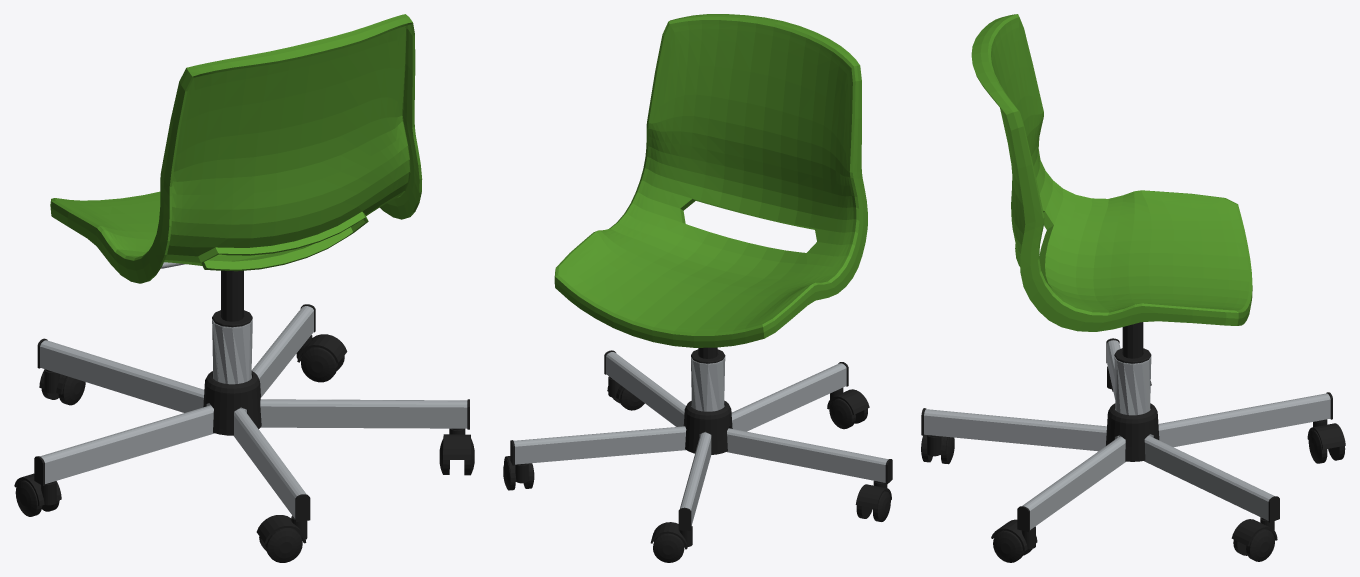
3 renders of one model, left to right at view 1: azimuth 30°, elevation 25°; view 2: azimuth 150°, elevation 25°; view 3: azimuth 270°, elevation 25°, orthographic. The views are drawn at different scales.
Parts seen in each view (by area): view 1: Mesh2 Group2 SNILLE_IKEA1 Model, Mesh8 Group6 SNILLE_IKEA1 Model, Mesh1 Group1 SNILLE_IKEA1 Model, Mesh7 Group5 SNILLE_IKEA1 Model, Mesh3 Group3 SNILLE_IKEA1 Model, Mesh20 ROULETTE4 SNILLE_IKEA1 Model, Mesh16 ROULETTE3 SNILLE_IKEA1 Model, Mesh12 ROULETTE2 SNILLE_IKEA1 Model, Mesh18 ROULETTE4 SNILLE_IKEA1 Model, Mesh15 ROULETTE3 SNILLE_IKEA1 Model, Mesh9 ROULETTE1 SNILLE_IKEA1 Model, Mesh11 ROULETTE1 SNILLE_IKEA1 Model; view 2: Mesh2 Group2 SNILLE_IKEA1 Model, Mesh8 Group6 SNILLE_IKEA1 Model, Mesh1 Group1 SNILLE_IKEA1 Model, Mesh7 Group5 SNILLE_IKEA1 Model, Mesh23 ROULETTE5 SNILLE_IKEA1 Model, Mesh9 ROULETTE1 SNILLE_IKEA1 Model, Mesh18 ROULETTE4 SNILLE_IKEA1 Model, Mesh19 ROULETTE4 SNILLE_IKEA1 Model, Mesh21 ROULETTE5 SNILLE_IKEA1 Model, Mesh15 ROULETTE3 SNILLE_IKEA1 Model; view 3: Mesh2 Group2 SNILLE_IKEA1 Model, Mesh8 Group6 SNILLE_IKEA1 Model, Mesh7 Group5 SNILLE_IKEA1 Model, Mesh1 Group1 SNILLE_IKEA1 Model, Mesh3 Group3 SNILLE_IKEA1 Model, Mesh14 ROULETTE2 SNILLE_IKEA1 Model, Mesh21 ROULETTE5 SNILLE_IKEA1 Model, Mesh15 ROULETTE3 SNILLE_IKEA1 Model, Mesh17 ROULETTE3 SNILLE_IKEA1 Model, Mesh12 ROULETTE2 SNILLE_IKEA1 Model.
Part boxes in pixels (x1,y1,x2,y2): Mesh2 Group2 SNILLE_IKEA1 Model: [50, 14, 422, 283]; Mesh8 Group6 SNILLE_IKEA1 Model: [34, 304, 469, 522]; Mesh1 Group1 SNILLE_IKEA1 Model: [203, 371, 261, 435]; Mesh7 Group5 SNILLE_IKEA1 Model: [212, 319, 252, 384]; Mesh3 Group3 SNILLE_IKEA1 Model: [212, 270, 252, 327]; Mesh20 ROULETTE4 SNILLE_IKEA1 Model: [265, 528, 302, 562]; Mesh16 ROULETTE3 SNILLE_IKEA1 Model: [301, 347, 337, 382]; Mesh12 ROULETTE2 SNILLE_IKEA1 Model: [443, 428, 470, 460]; Mesh18 ROULETTE4 SNILLE_IKEA1 Model: [256, 515, 307, 543]; Mesh15 ROULETTE3 SNILLE_IKEA1 Model: [296, 334, 347, 362]; Mesh9 ROULETTE1 SNILLE_IKEA1 Model: [14, 473, 61, 506]; Mesh11 ROULETTE1 SNILLE_IKEA1 Model: [15, 480, 42, 516]; Mesh2 Group2 SNILLE_IKEA1 Model: [554, 14, 867, 347]; Mesh8 Group6 SNILLE_IKEA1 Model: [510, 350, 892, 530]; Mesh1 Group1 SNILLE_IKEA1 Model: [683, 400, 732, 454]; Mesh7 Group5 SNILLE_IKEA1 Model: [691, 357, 725, 411]; Mesh23 ROULETTE5 SNILLE_IKEA1 Model: [653, 533, 684, 562]; Mesh9 ROULETTE1 SNILLE_IKEA1 Model: [855, 481, 891, 508]; Mesh18 ROULETTE4 SNILLE_IKEA1 Model: [827, 387, 869, 414]; Mesh19 ROULETTE4 SNILLE_IKEA1 Model: [829, 398, 855, 429]; Mesh21 ROULETTE5 SNILLE_IKEA1 Model: [650, 522, 692, 549]; Mesh15 ROULETTE3 SNILLE_IKEA1 Model: [504, 456, 533, 483]; Mesh2 Group2 SNILLE_IKEA1 Model: [971, 14, 1252, 331]; Mesh8 Group6 SNILLE_IKEA1 Model: [921, 338, 1332, 532]; Mesh7 Group5 SNILLE_IKEA1 Model: [1114, 356, 1151, 415]; Mesh1 Group1 SNILLE_IKEA1 Model: [1106, 403, 1159, 461]; Mesh3 Group3 SNILLE_IKEA1 Model: [1114, 322, 1151, 363]; Mesh14 ROULETTE2 SNILLE_IKEA1 Model: [993, 530, 1024, 562]; Mesh21 ROULETTE5 SNILLE_IKEA1 Model: [1307, 419, 1345, 449]; Mesh15 ROULETTE3 SNILLE_IKEA1 Model: [1231, 517, 1277, 546]; Mesh17 ROULETTE3 SNILLE_IKEA1 Model: [1246, 529, 1274, 561]; Mesh12 ROULETTE2 SNILLE_IKEA1 Model: [991, 519, 1037, 551].
Bounding box in the file's own units: 0.5756 × 0.6762 × 0.5974.
